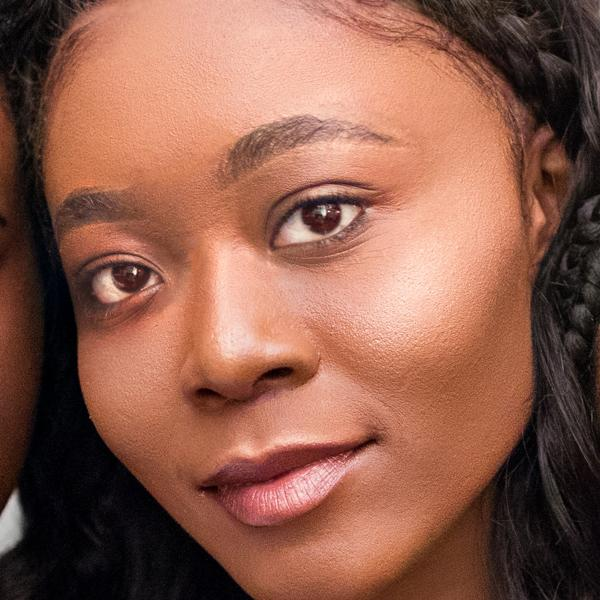Eyes: (256, 159, 392, 272), (69, 231, 184, 336)
